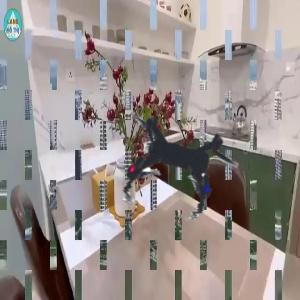drone: (76, 56, 289, 269)
